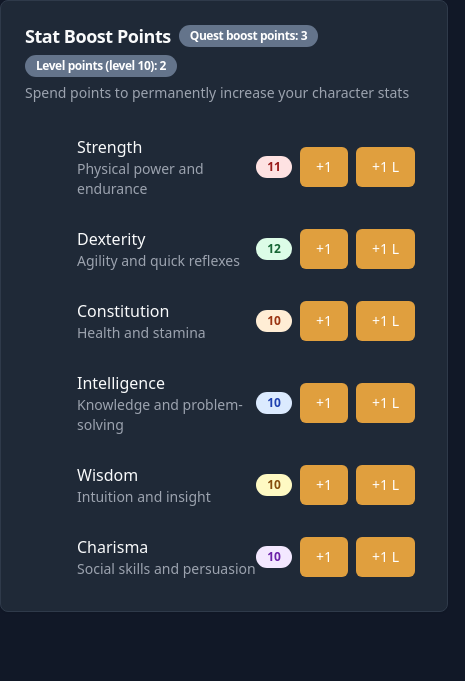
Test: StatBoostPanel (rendered) › shows the server error message when a spend fails
The width and height of the screenshot is (465, 681).
Click the button named "Spend a quest boost point on Strength".
click(324, 167)  # box [300,147,348,187]
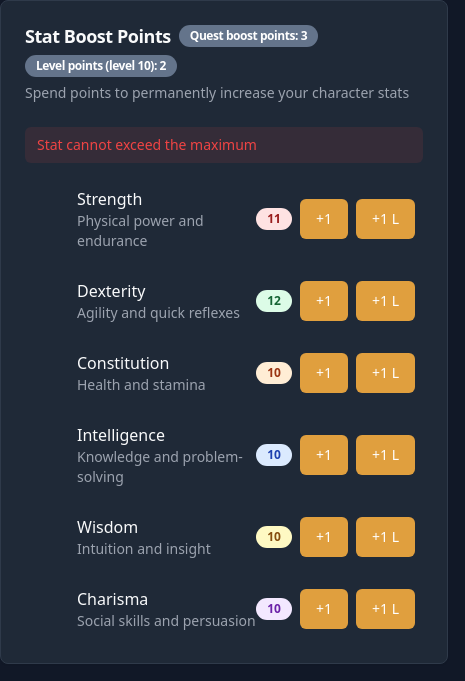
Expected: the message reads "Stat cannot exceed the maximum", [37,135,257,154]
